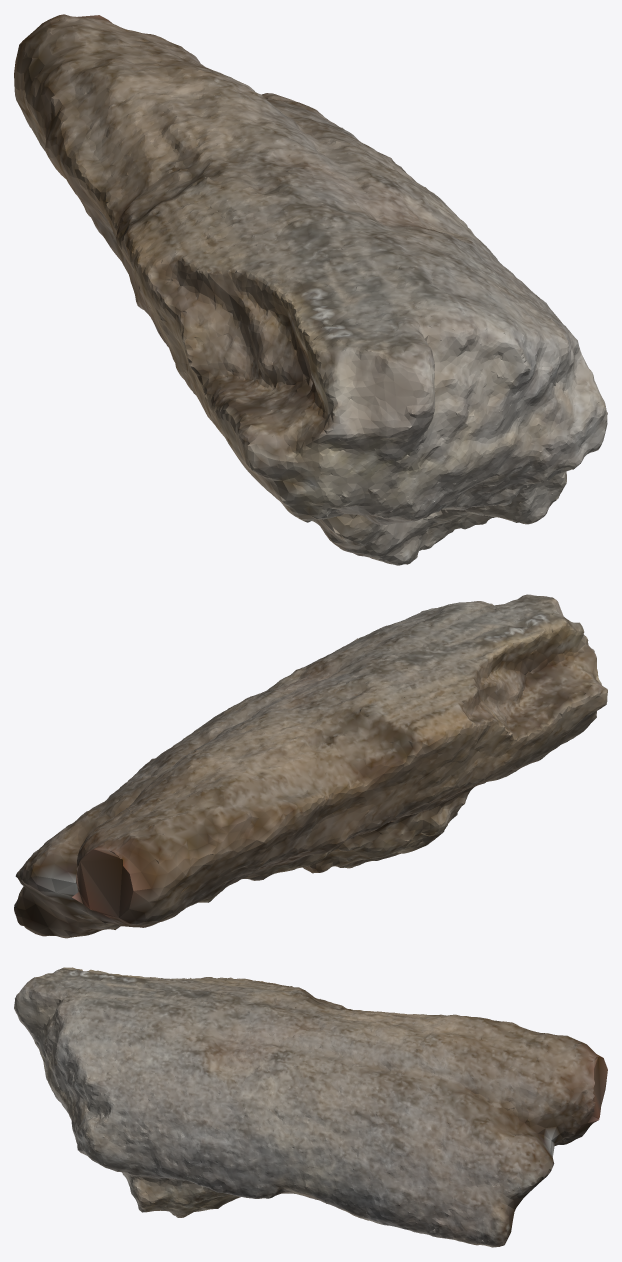
Rendered from dvb29glb_LOD0.glb.
The picture shows the model from 3 angles, top to bottom: view 1: azimuth 30°, elevation 25°; view 2: azimuth 150°, elevation 25°; view 3: azimuth 270°, elevation 25°; orthographic projection. The views are drawn at different scales.
Visible parts, largest first — view 1: Mesh_0_Part_0; view 2: Mesh_0_Part_0; view 3: Mesh_0_Part_0.
Boxes of the visible parts, x1,y1,x2,y2 form: Mesh_0_Part_0: (14,14,607,565); Mesh_0_Part_0: (14,594,607,938); Mesh_0_Part_0: (14,967,607,1247).
Size of the model in its own units: 7.01 by 4.43 by 12.45.
